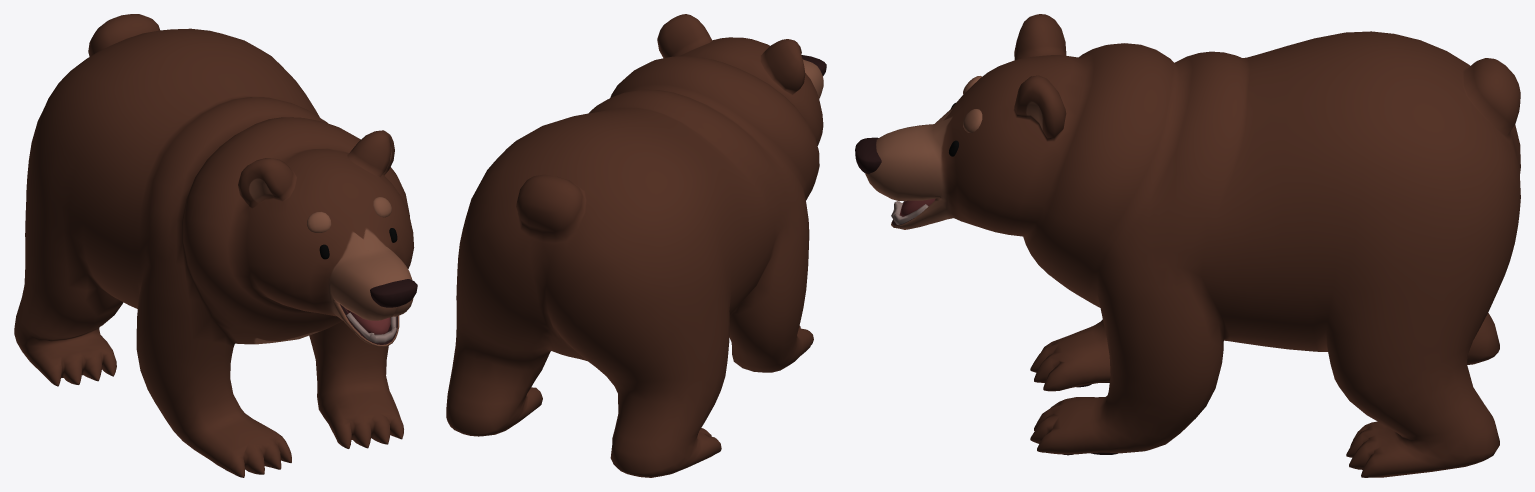
File: bear low.fbx
3 views of the same model, side by side, from view 1: azimuth 30°, elevation 25°; view 2: azimuth 150°, elevation 25°; view 3: azimuth 270°, elevation 25° (orthographic). The views are drawn at different scales.
Parts seen in each view (by area): view 1: Plane.003; view 2: Plane.003; view 3: Plane.003.
Part boxes in pixels (<box>): Plane.003: <box>14,14,417,477</box>; Plane.003: <box>446,14,826,477</box>; Plane.003: <box>855,14,1520,477</box>.
Bounding box in the file's own units: 420 × 478 × 791.
